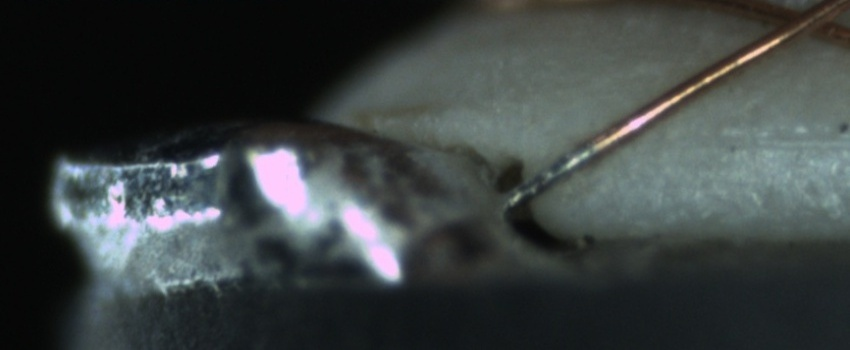CL: (756, 0, 846, 48)
DL: (675, 107, 850, 172)
TS: (504, 142, 600, 210)
